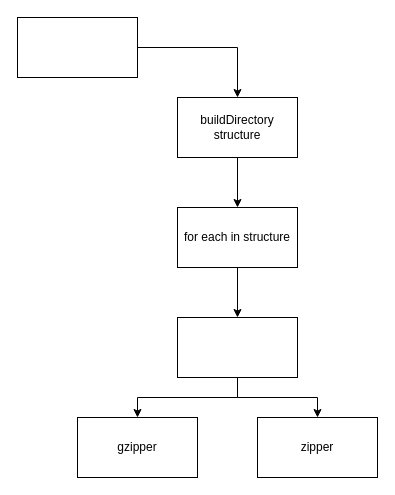
The diagram is 395 pixels wide and 495 high, and some of its shapes have lost their labels. The shapes that lost their labels are listed below. From the top down, each one's centre as x and y in pixels, then its label:
At (x=77, y=47): "Dropzone".
At (x=237, y=347): "object.keys.length > 0".
